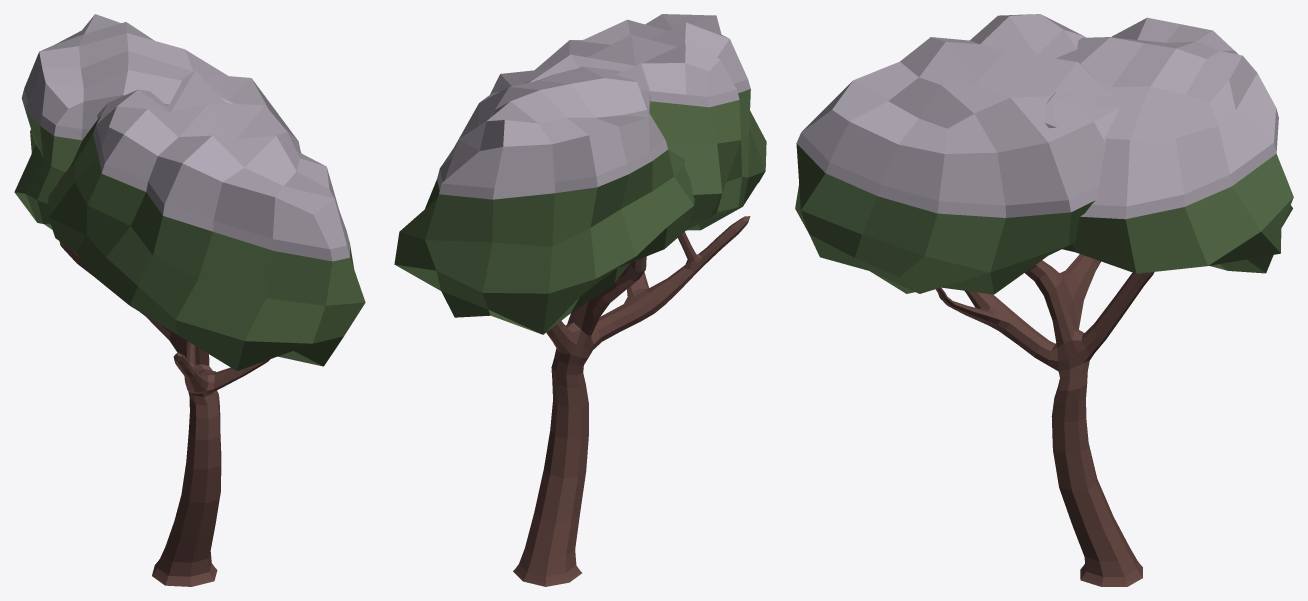
Rendered from CommonTree_Snow_5.glb.
The picture shows the model from 3 angles, left to right: view 1: azimuth 30°, elevation 25°; view 2: azimuth 150°, elevation 25°; view 3: azimuth 270°, elevation 25°; orthographic projection. The views are drawn at different scales.
Visible parts, largest first — view 1: CommonTree_Snow_5_Cube.138; view 2: CommonTree_Snow_5_Cube.138; view 3: CommonTree_Snow_5_Cube.138.
Part boxes in pixels (x1,y1,x2,y2): CommonTree_Snow_5_Cube.138: (14,14,365,586); CommonTree_Snow_5_Cube.138: (394,14,766,586); CommonTree_Snow_5_Cube.138: (795,14,1293,586).
Bounding box in the file's own units: 1.29 × 2.57 × 2.25.
